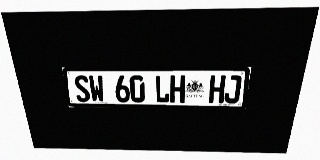0: (129, 75, 145, 102)
6: (114, 75, 130, 102)
H: (208, 75, 226, 103), (170, 75, 185, 103)
J: (224, 75, 242, 103)
L: (155, 75, 170, 103)
S: (73, 75, 91, 102)
W: (88, 75, 105, 102)
